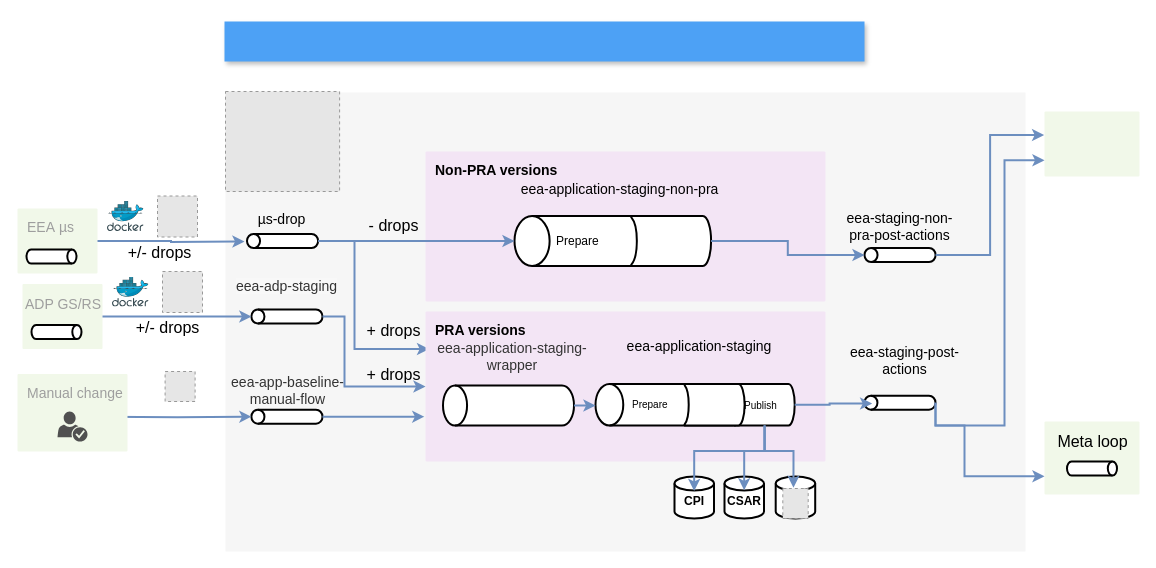
Some shapes in this 1156 by 568 pixel diagram are drawn without their labels. Grey dashed boxes stand in for pictures. The centre of each missing label's shape, as x and y in pixels:
Application Dashboard: point (1091, 143)
Product Staging: point (545, 42)
Queue: point (508, 405)
Validate: point (714, 404)
Validations: point (671, 240)
